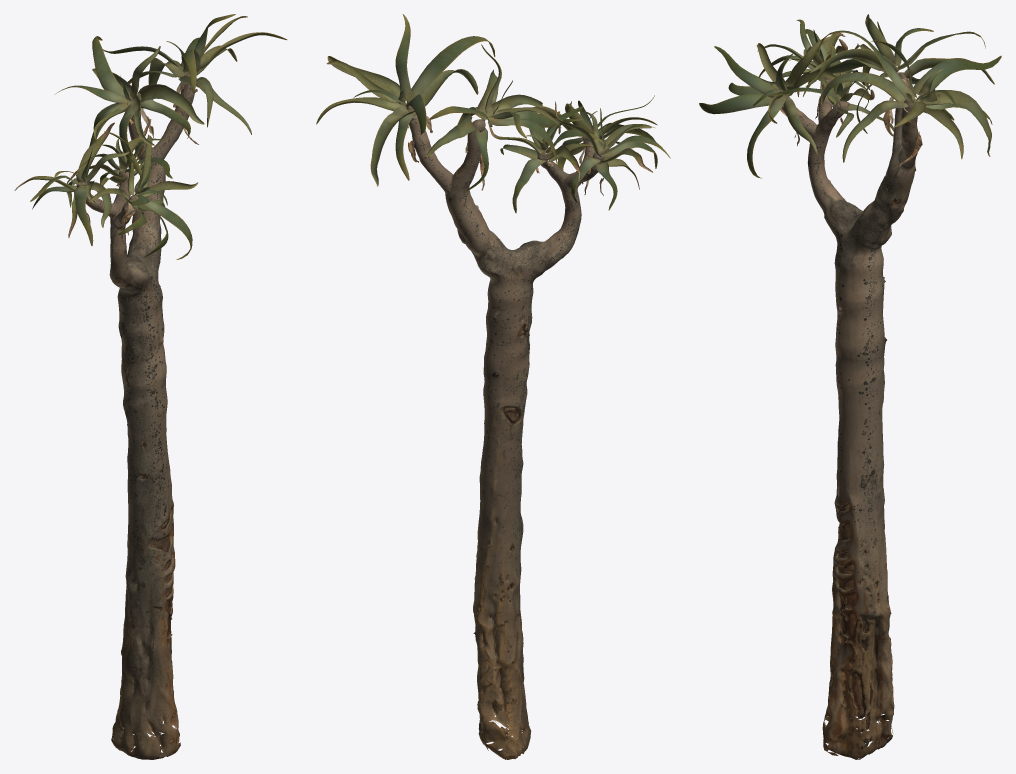
File: quiver_tree_01.gltf
3 renders of one model, left to right at view 1: azimuth 30°, elevation 25°; view 2: azimuth 150°, elevation 25°; view 3: azimuth 270°, elevation 25°, orthographic. The views are drawn at different scales.
Visible parts, largest first — view 1: quiver_tree_01; view 2: quiver_tree_01; view 3: quiver_tree_01.
Boxes of the visible parts, box(x1,y1,x2,y2) form: quiver_tree_01: box(14, 14, 287, 759); quiver_tree_01: box(316, 14, 670, 759); quiver_tree_01: box(699, 14, 1001, 759).
Size of the model in its own units: 1.18 by 2.68 by 0.9685.
2 materials, 2 textured.
